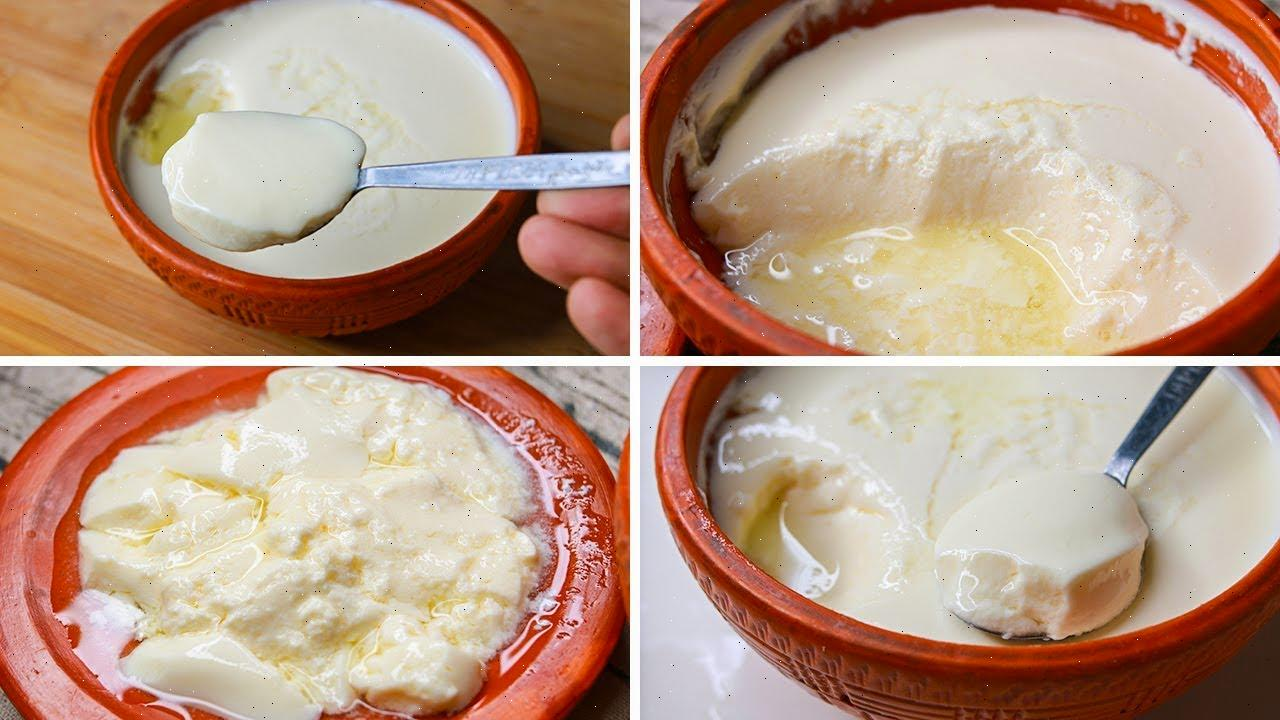yogurt: (676, 0, 1262, 354), (690, 369, 1276, 652), (60, 384, 561, 708), (116, 0, 532, 290)
